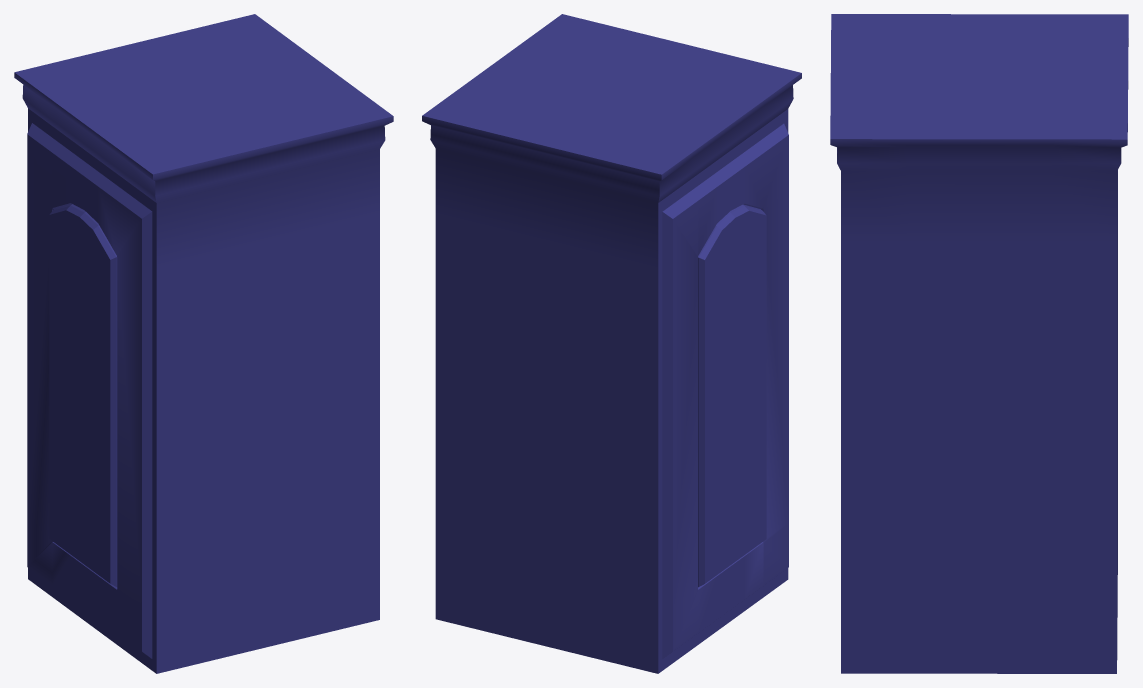
File: Cabinet 2_resized.FBX
The picture shows the model from 3 angles, left to right: view 1: azimuth 30°, elevation 25°; view 2: azimuth 150°, elevation 25°; view 3: azimuth 270°, elevation 25°; orthographic projection. The views are drawn at different scales.
Visible parts, largest first — view 1: cabinet 02; view 2: cabinet 02; view 3: cabinet 02.
Part boxes in pixels (x1=…): cabinet 02: x1=14, y1=14, x2=393, y2=673; cabinet 02: x1=422, y1=14, x2=801, y2=673; cabinet 02: x1=830, y1=14, x2=1128, y2=673.
Bounding box in the file's own units: 0.5043 × 0.995 × 0.4993.
